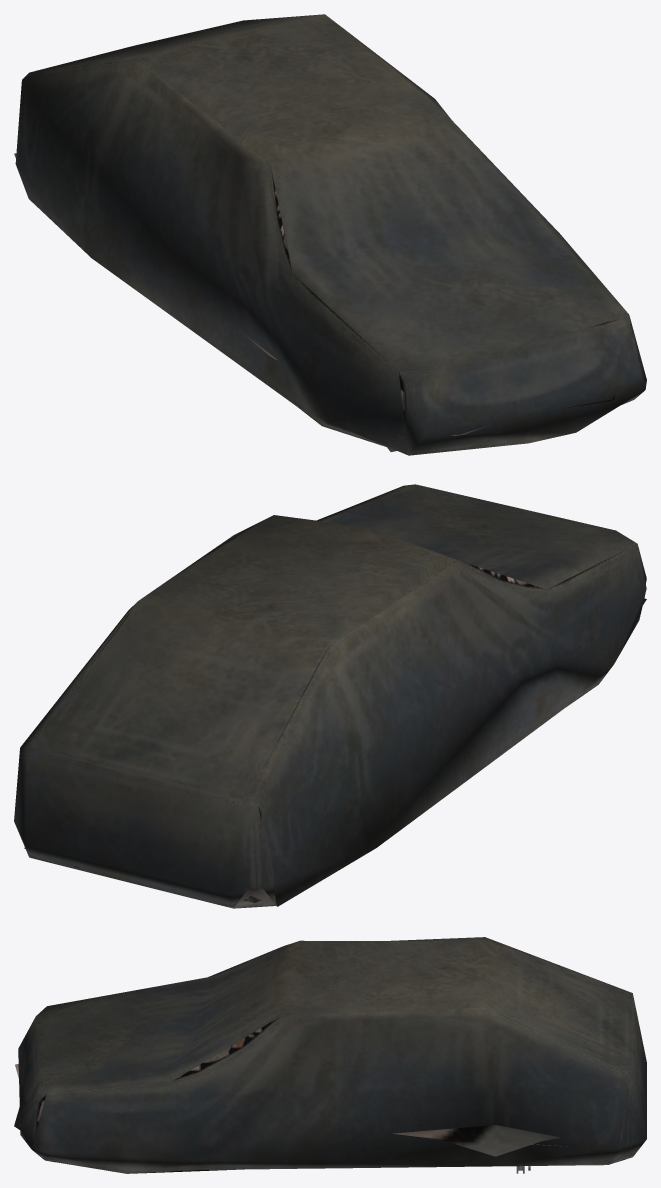
The model's file is covered_car.glb.
The picture shows the model from 3 angles, top to bottom: view 1: azimuth 30°, elevation 25°; view 2: azimuth 150°, elevation 25°; view 3: azimuth 270°, elevation 25°; orthographic projection. The views are drawn at different scales.
Size of the model in its own units: 1.71 by 1.2 by 4.31.
Materials: 1 (1 with a texture image).
